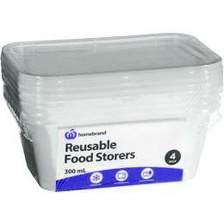plastic_box: (0, 24, 223, 197)
